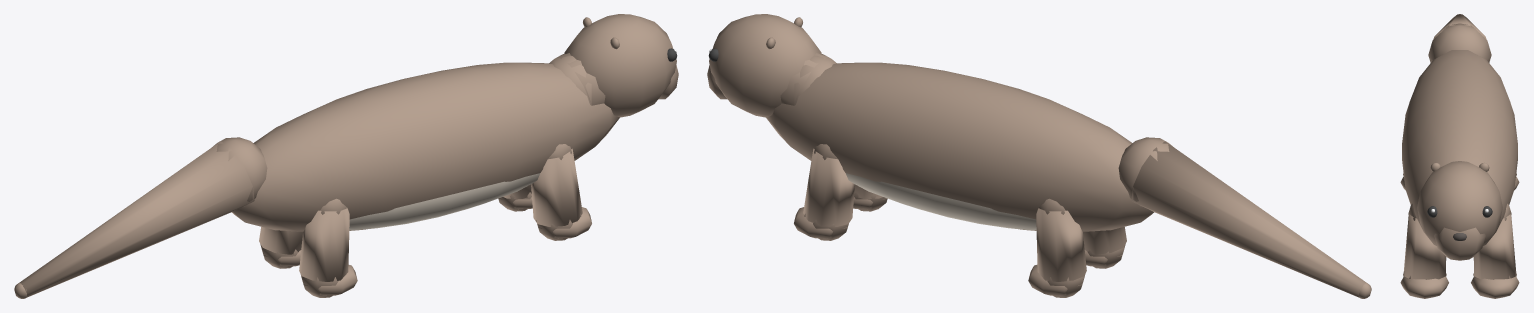
File: asian-small-clawed-otter.glb
3 views of the same model, side by side, from view 1: azimuth 30°, elevation 25°; view 2: azimuth 150°, elevation 25°; view 3: azimuth 270°, elevation 25° (orthographic). The views are drawn at different scales.
Parts seen in each view (by area): view 1: e, e.025, e.016; view 2: e, e.025, e.016; view 3: e, e.016, e.025.
Boxes of the visible parts, x1=… form: e: x1=231, y1=53, x2=619, y2=297; e.025: x1=14, y1=137, x2=267, y2=298; e.016: x1=564, y1=14, x2=678, y2=117; e: x1=766, y1=53, x2=1154, y2=297; e.025: x1=1118, y1=137, x2=1371, y2=298; e.016: x1=707, y1=14, x2=821, y2=117; e: x1=1400, y1=50, x2=1519, y2=298; e.016: x1=1417, y1=161, x2=1502, y2=260; e.025: x1=1428, y1=14, x2=1491, y2=62.
Size of the model in its own units: 1.37 by 0.3684 by 0.244.
